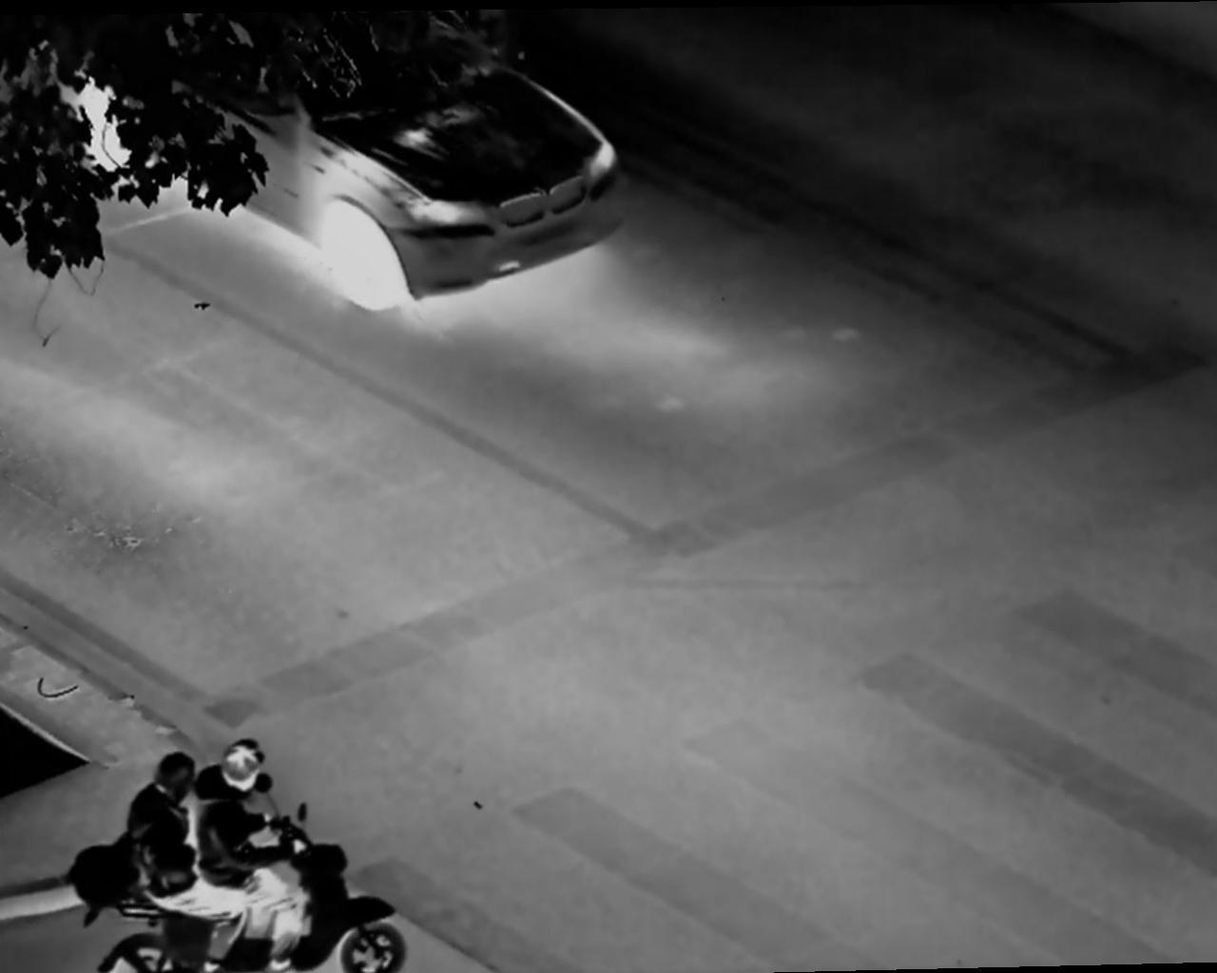person: (203, 732, 329, 966), (125, 744, 212, 951)
